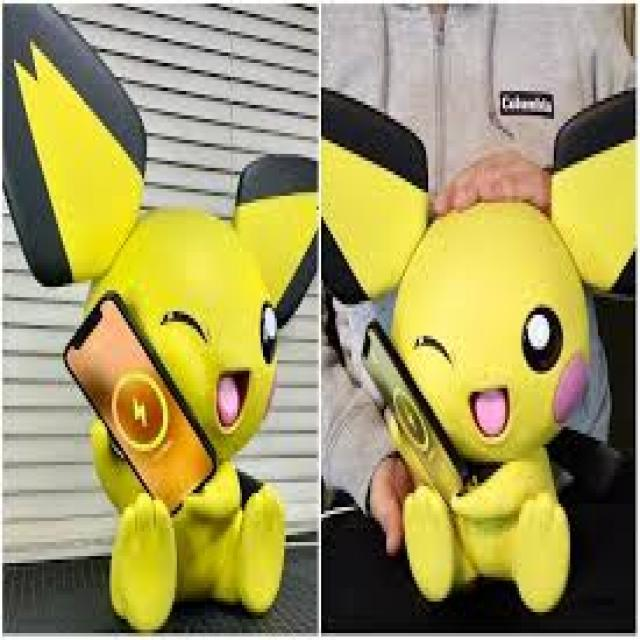pichu: (11, 36, 338, 562), (356, 90, 639, 594)
